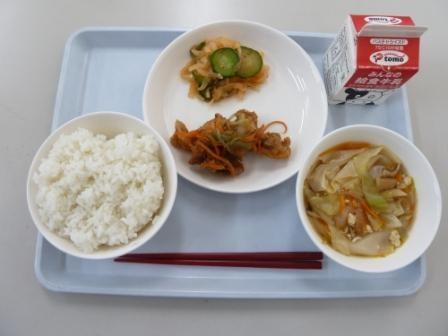Meat: (171, 104, 292, 184)
Milk: (326, 2, 420, 106)
Rice: (36, 128, 165, 253)
Salad: (175, 25, 272, 106)
Soups: (296, 130, 436, 261)
